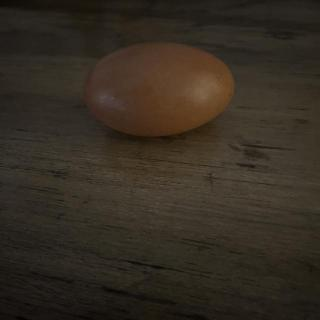Telur: (81, 40, 241, 140)
